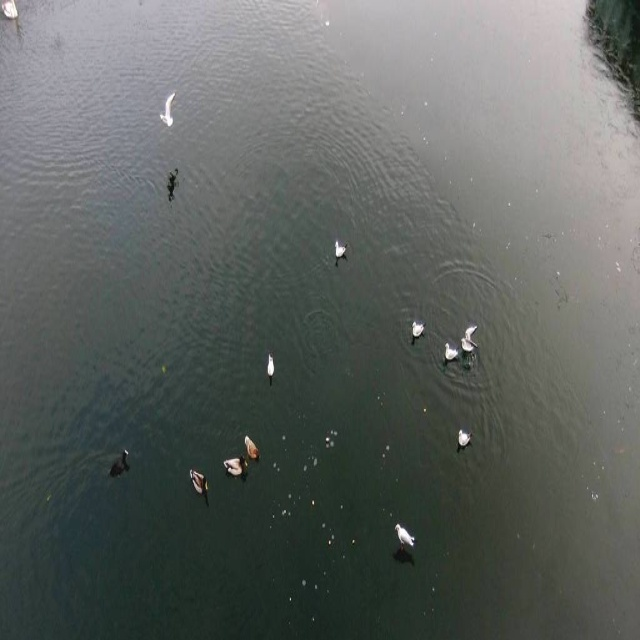Duck: (225, 455, 249, 478), (394, 523, 413, 551)
